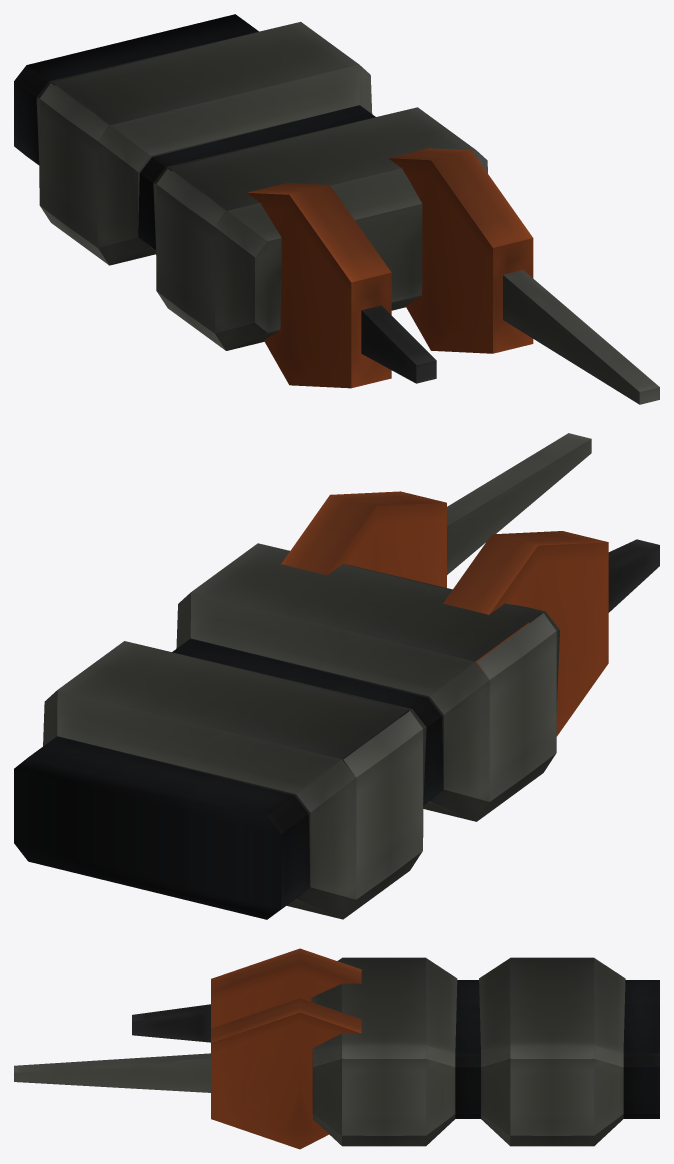
The model's file is StabilizerRevised.fbx.
3 renders of one model, top to bottom at view 1: azimuth 30°, elevation 25°; view 2: azimuth 150°, elevation 25°; view 3: azimuth 270°, elevation 25°, orthographic. The views are drawn at different scales.
Parts seen in each view (by area): view 1: Module_Sensor_1, Module_Sensor_1.001, Module_Sensor_1.006, Module_Sensor_1.002, Module_Sensor_1.005; view 2: Module_Sensor_1.001, Module_Sensor_1.006, Module_Sensor_1.002, Module_Sensor_1, Module_Sensor_1.005; view 3: Module_Sensor_1, Module_Sensor_1.001, Module_Sensor_1.006, Module_Sensor_1.002, Module_Sensor_1.005.
Boxes of the visible parts, x1,y1,x2,y2 form: Module_Sensor_1: [247, 148, 659, 404]; Module_Sensor_1.001: [36, 22, 372, 265]; Module_Sensor_1.006: [153, 107, 487, 350]; Module_Sensor_1.002: [14, 14, 258, 165]; Module_Sensor_1.005: [138, 105, 375, 250]; Module_Sensor_1.001: [43, 641, 426, 919]; Module_Sensor_1.006: [176, 543, 559, 821]; Module_Sensor_1.002: [14, 736, 310, 919]; Module_Sensor_1: [281, 433, 659, 736]; Module_Sensor_1.005: [172, 638, 443, 805]; Module_Sensor_1: [14, 948, 361, 1149]; Module_Sensor_1.001: [479, 957, 625, 1146]; Module_Sensor_1.006: [311, 957, 457, 1146]; Module_Sensor_1.002: [623, 980, 659, 1118]; Module_Sensor_1.005: [455, 980, 480, 1118].
Size of the model in its own units: 6.77 by 4.5 by 19.21.
